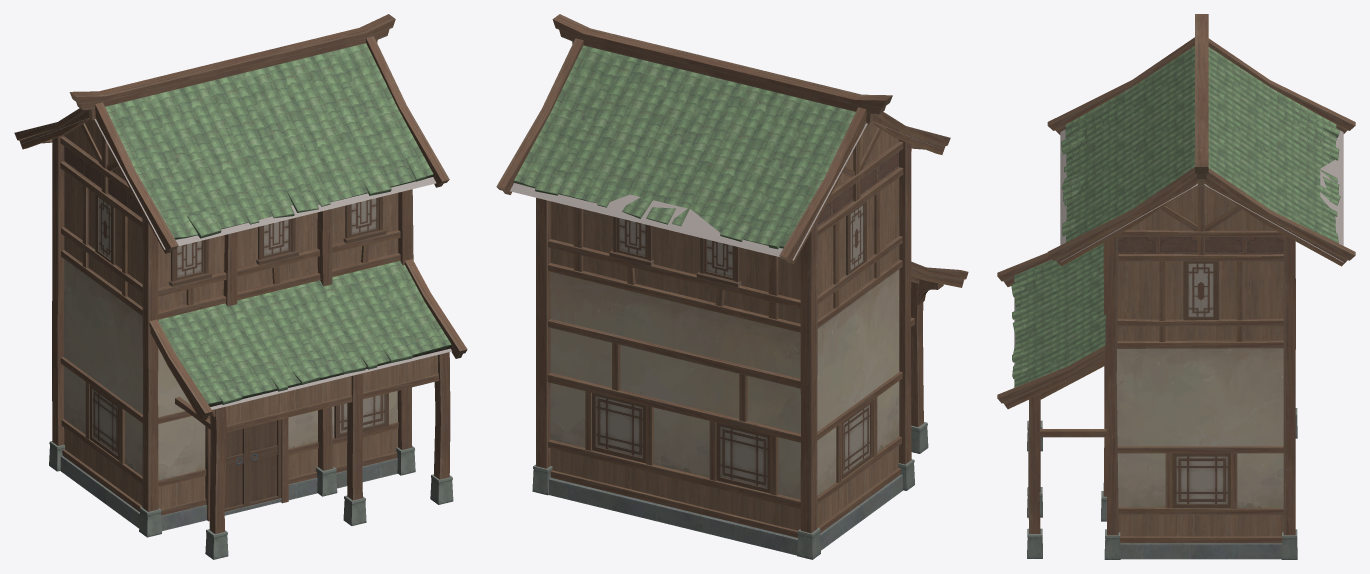
Rendered from Homeworld_Exterior_Ly_Build_House_14_Lod0.fbx.
The picture shows the model from 3 angles, left to right: view 1: azimuth 30°, elevation 25°; view 2: azimuth 150°, elevation 25°; view 3: azimuth 270°, elevation 25°; orthographic projection. The views are drawn at different scales.
Visible parts, largest first — view 1: Area_Ly_Build_LYG_CHY_House_01_Lod0, Area_Ly_Build_LYG_CHY_House_01_Ocl; view 2: Area_Ly_Build_LYG_CHY_House_01_Lod0, Area_Ly_Build_LYG_CHY_House_01_Ocl; view 3: Area_Ly_Build_LYG_CHY_House_01_Lod0, Area_Ly_Build_LYG_CHY_House_01_Ocl.
Boxes of the visible parts, x1,y1,x2,y2 form: Area_Ly_Build_LYG_CHY_House_01_Lod0: (14,14,467,559); Area_Ly_Build_LYG_CHY_House_01_Ocl: (21,118,451,409); Area_Ly_Build_LYG_CHY_House_01_Lod0: (496,14,968,559); Area_Ly_Build_LYG_CHY_House_01_Ocl: (510,122,942,260); Area_Ly_Build_LYG_CHY_House_01_Lod0: (997,14,1355,559); Area_Ly_Build_LYG_CHY_House_01_Ocl: (1014,129,1343,385).
Size of what is drawn, in the model's own units: 9.02 by 11.17 by 8.92.
